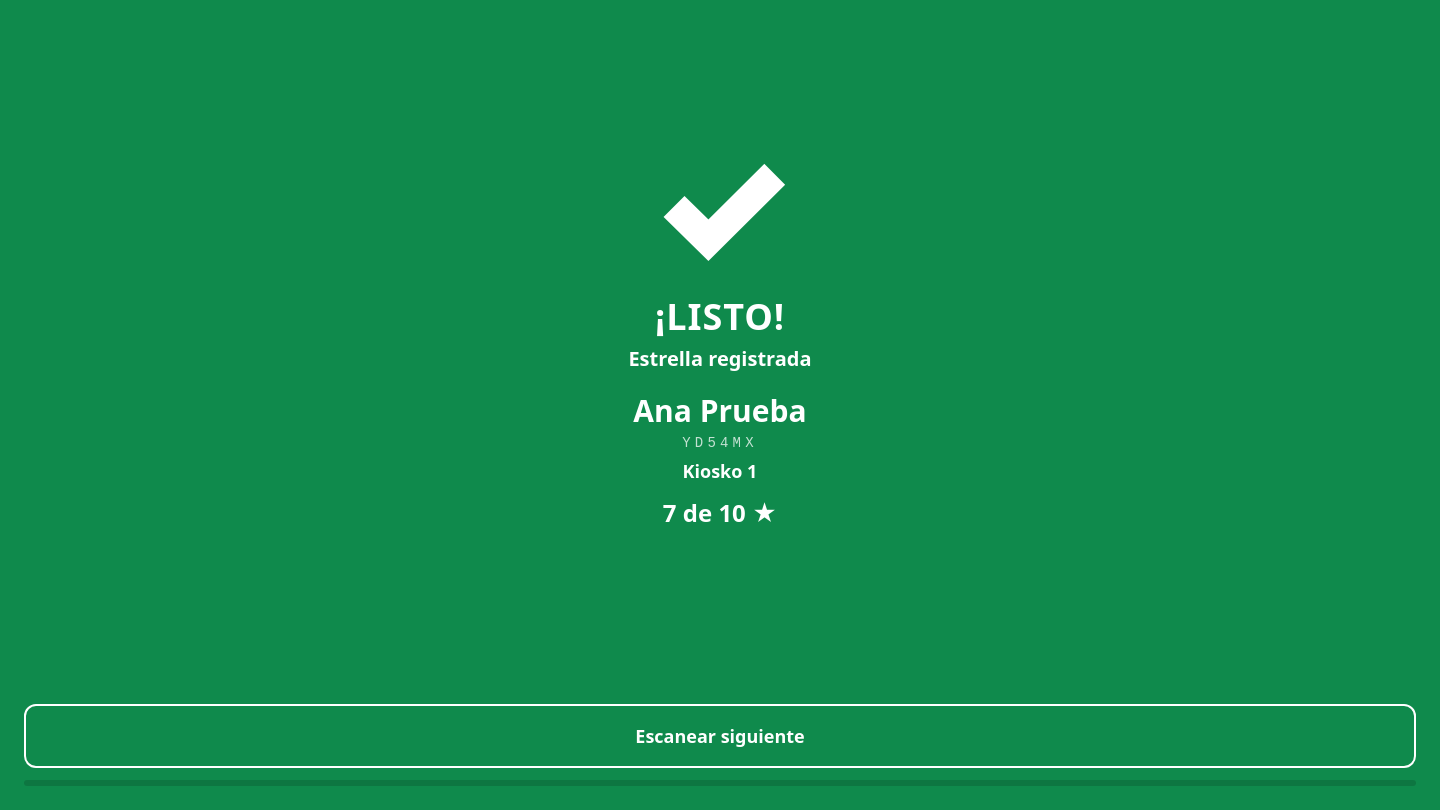
Test: ScanConsole › pantalla completa de resultado › el mismo QR sostenido frente a la cámara cuenta una sola vez
// Llega otra lectura del mismo QR mientras se ve el resultado y después de cerrarlo.
Click the dialog.
click(86, 405)  # box [0, 0, 1439, 809]
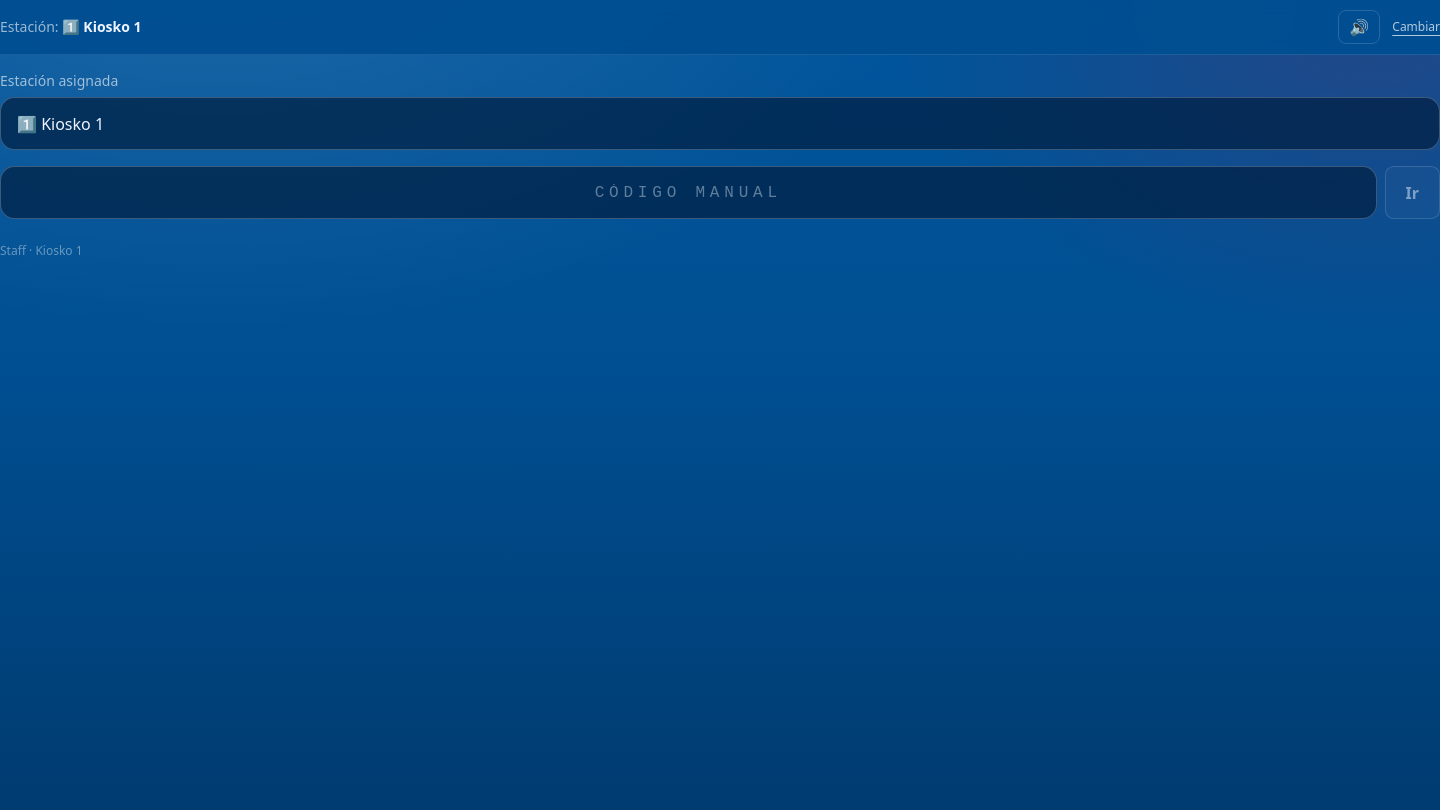
Result: no dialogs are shown
